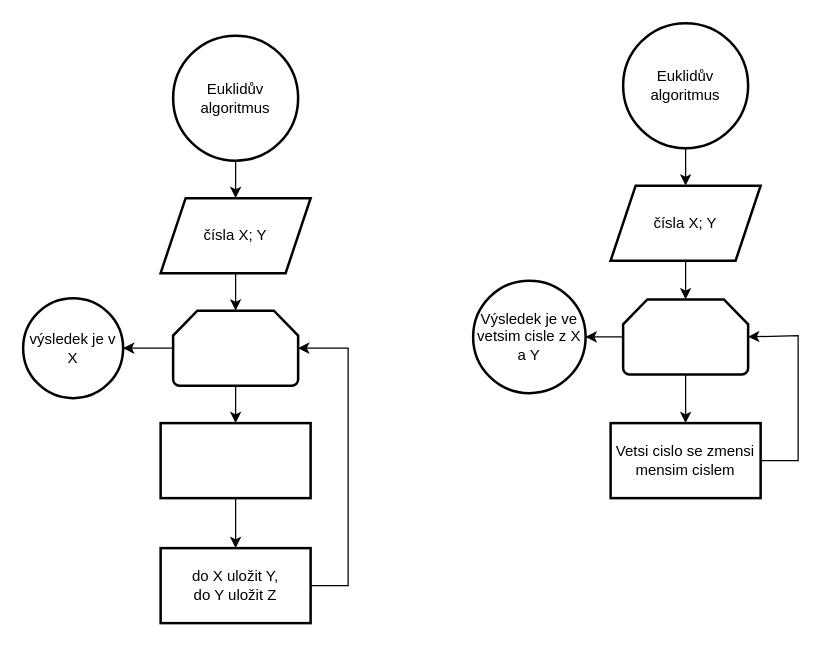
Image size: 830x645. Some labels were removed from this diagram. Here are the shapes that lost their labels. From the top down, the box of each, then its label:
(171, 309, 299, 386): dokud v Y není 0
(621, 298, 749, 375): dokud v Y není 0 nebo v X není 0
(159, 421, 311, 499): Z = zbytek po dělení X děleno Y
